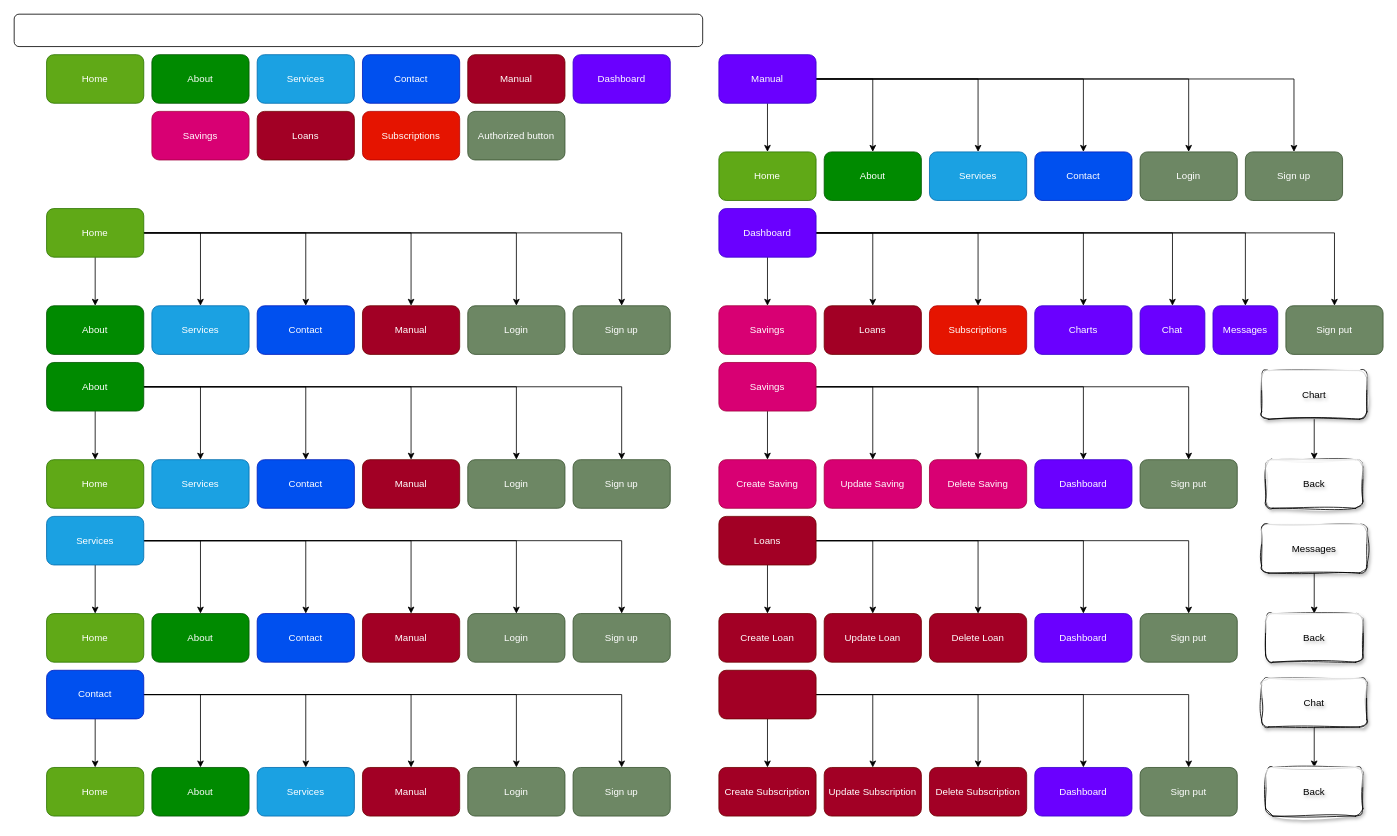
Image size: 1397x836. Some labels were removed from this diagram. Each missing label, with the centre of its shape:
"Pages Connections" goes at (358,30).
"Subscription" goes at (767,694).
